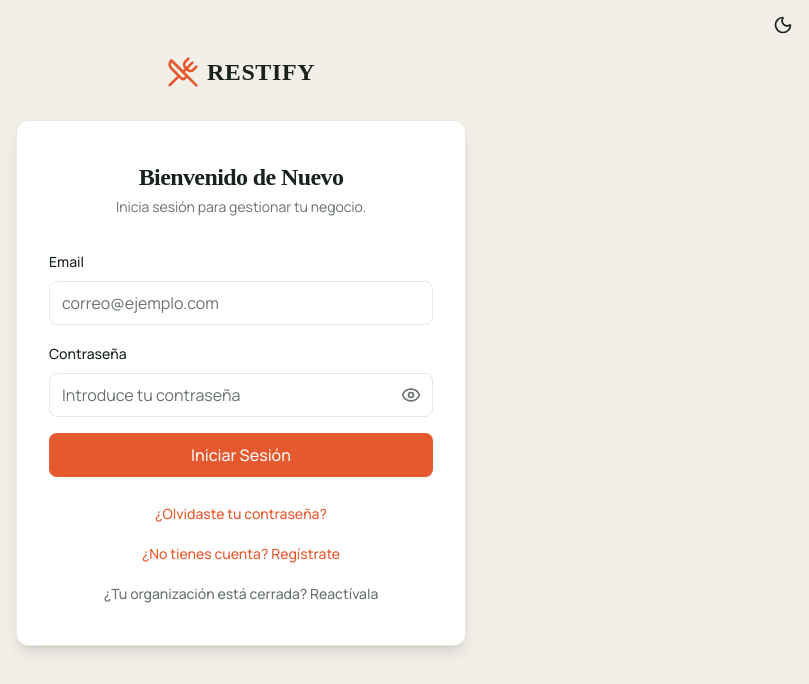
Test: LoginPage › shows validation error when password is shorter than 6 characters
Type "admin@restify.com" into the field labelled "Email".
click(241, 303); type("admin@restify.com")  # box [49,281,433,325]
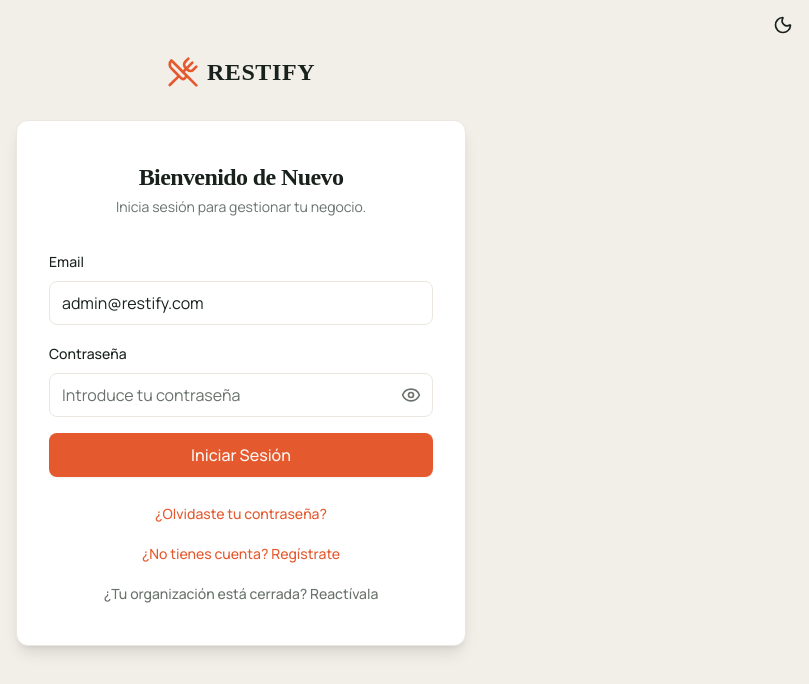
Type "12345" into the password field labelled "Contraseña".
click(241, 395); type("12345")  # box [49,373,433,417]
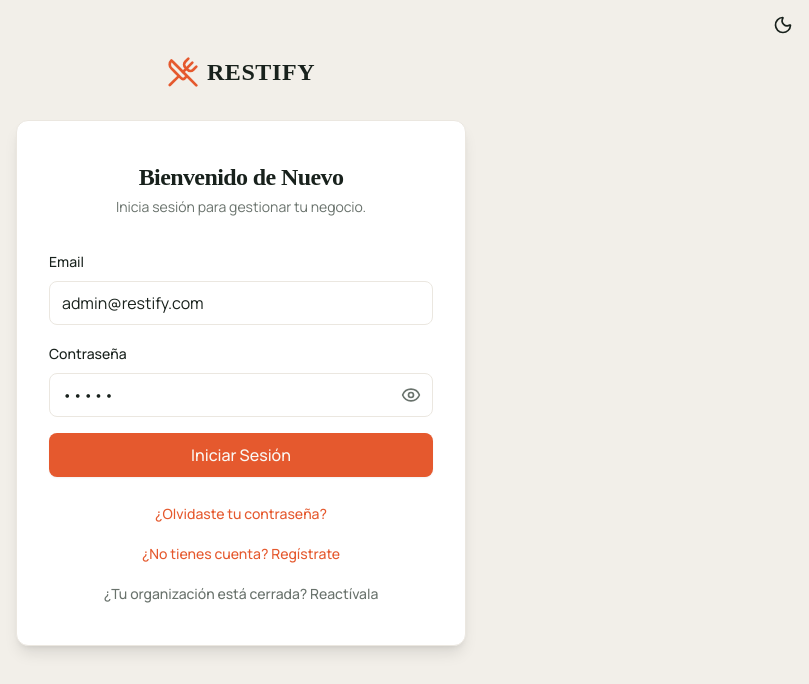
Submit the form labelled "Email", box [49,249,433,605]
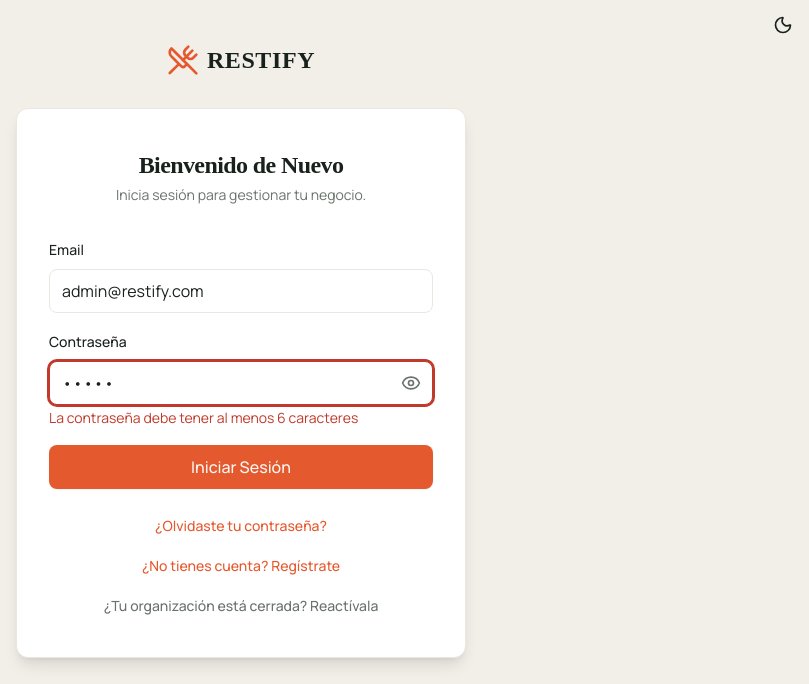
Now the text "La contraseña debe tener al menos 6 caracteres" is shown, box [49,408,358,427]
